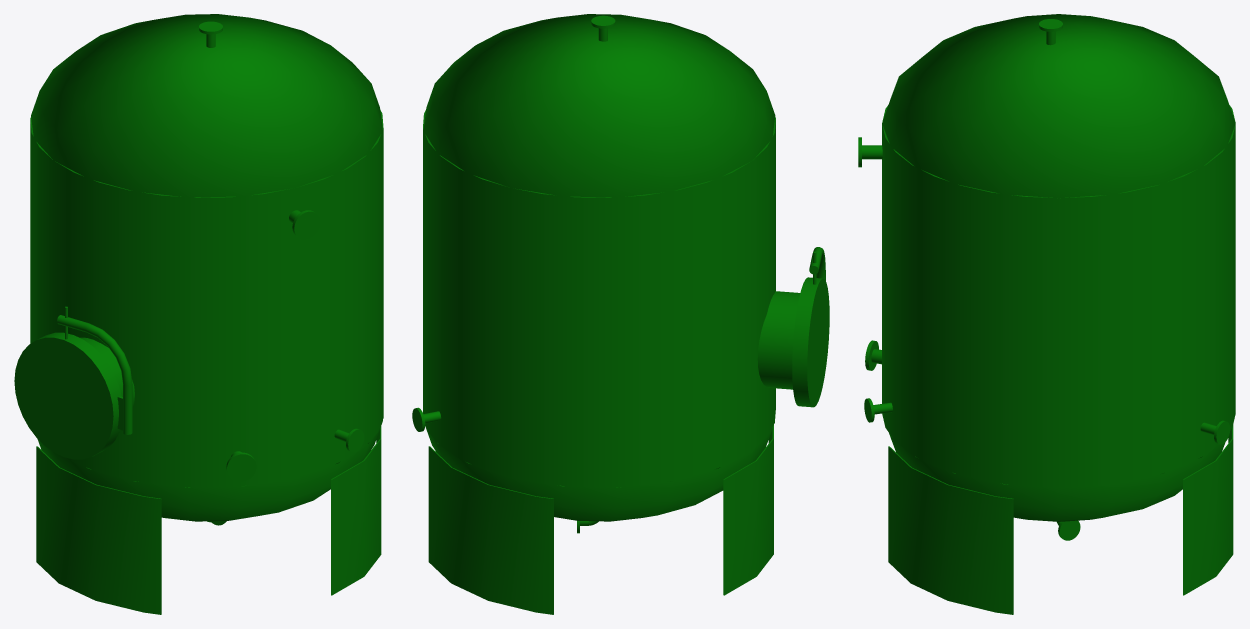
File: Image-1710907665299-2280398417056_63-VL51.fbx
3 views of the same model, side by side, from view 1: azimuth 30°, elevation 25°; view 2: azimuth 150°, elevation 25°; view 3: azimuth 270°, elevation 25° (orthographic).
Visible parts, largest first — view 1: CYLINDER 1 of SUBEQUIPMENT /63-VL51/PRIM, DISH 1 of SUBEQUIPMENT /63-VL51/PRIM, RTORUS 2 of SUBEQUIPMENT /63-VL51/SKIRT, CYLINDER 1 of SUBEQUIPMENT /63-VL51/NOZZ, DISH 2 of SUBEQUIPMENT /63-VL51/PRIM, RTORUS 1 of SUBEQUIPMENT /63-VL51/SKIRT, /63-VL51/M1, CTORUS 1 of SUBEQUIPMENT /63-VL51/NOZZ, /63-VL51/N1, /63-VL51/N2; view 2: CYLINDER 1 of SUBEQUIPMENT /63-VL51/PRIM, DISH 1 of SUBEQUIPMENT /63-VL51/PRIM, RTORUS 3 of SUBEQUIPMENT /63-VL51/SKIRT, DISH 2 of SUBEQUIPMENT /63-VL51/PRIM, RTORUS 2 of SUBEQUIPMENT /63-VL51/SKIRT, /63-VL51/M1, CYLINDER 1 of SUBEQUIPMENT /63-VL51/NOZZ; view 3: CYLINDER 1 of SUBEQUIPMENT /63-VL51/PRIM, DISH 1 of SUBEQUIPMENT /63-VL51/PRIM, RTORUS 1 of SUBEQUIPMENT /63-VL51/SKIRT, DISH 2 of SUBEQUIPMENT /63-VL51/PRIM, RTORUS 3 of SUBEQUIPMENT /63-VL51/SKIRT.
Boxes of the visible parts, <box> form: CYLINDER 1 of SUBEQUIPMENT /63-VL51/PRIM: <box>30,110,383,487</box>; DISH 1 of SUBEQUIPMENT /63-VL51/PRIM: <box>31,14,382,197</box>; RTORUS 2 of SUBEQUIPMENT /63-VL51/SKIRT: <box>36,446,161,614</box>; CYLINDER 1 of SUBEQUIPMENT /63-VL51/NOZZ: <box>14,335,118,459</box>; DISH 2 of SUBEQUIPMENT /63-VL51/PRIM: <box>37,420,382,521</box>; RTORUS 1 of SUBEQUIPMENT /63-VL51/SKIRT: <box>331,426,381,595</box>; /63-VL51/M1: <box>42,332,134,452</box>; CTORUS 1 of SUBEQUIPMENT /63-VL51/NOZZ: <box>85,323,132,385</box>; /63-VL51/N1: <box>289,210,320,239</box>; /63-VL51/N2: <box>226,451,256,481</box>; CYLINDER 1 of SUBEQUIPMENT /63-VL51/PRIM: <box>423,110,775,487</box>; DISH 1 of SUBEQUIPMENT /63-VL51/PRIM: <box>423,14,775,197</box>; RTORUS 3 of SUBEQUIPMENT /63-VL51/SKIRT: <box>428,446,553,614</box>; DISH 2 of SUBEQUIPMENT /63-VL51/PRIM: <box>425,425,772,521</box>; RTORUS 2 of SUBEQUIPMENT /63-VL51/SKIRT: <box>723,425,773,595</box>; /63-VL51/M1: <box>757,277,812,406</box>; CYLINDER 1 of SUBEQUIPMENT /63-VL51/NOZZ: <box>799,278,829,407</box>; CYLINDER 1 of SUBEQUIPMENT /63-VL51/PRIM: <box>882,105,1235,487</box>; DISH 1 of SUBEQUIPMENT /63-VL51/PRIM: <box>882,14,1235,198</box>; RTORUS 1 of SUBEQUIPMENT /63-VL51/SKIRT: <box>888,446,1013,614</box>; DISH 2 of SUBEQUIPMENT /63-VL51/PRIM: <box>889,433,1225,521</box>; RTORUS 3 of SUBEQUIPMENT /63-VL51/SKIRT: <box>1183,425,1233,595</box>.
Size of the model in its own units: 2.56 by 2.37 by 3.6.
